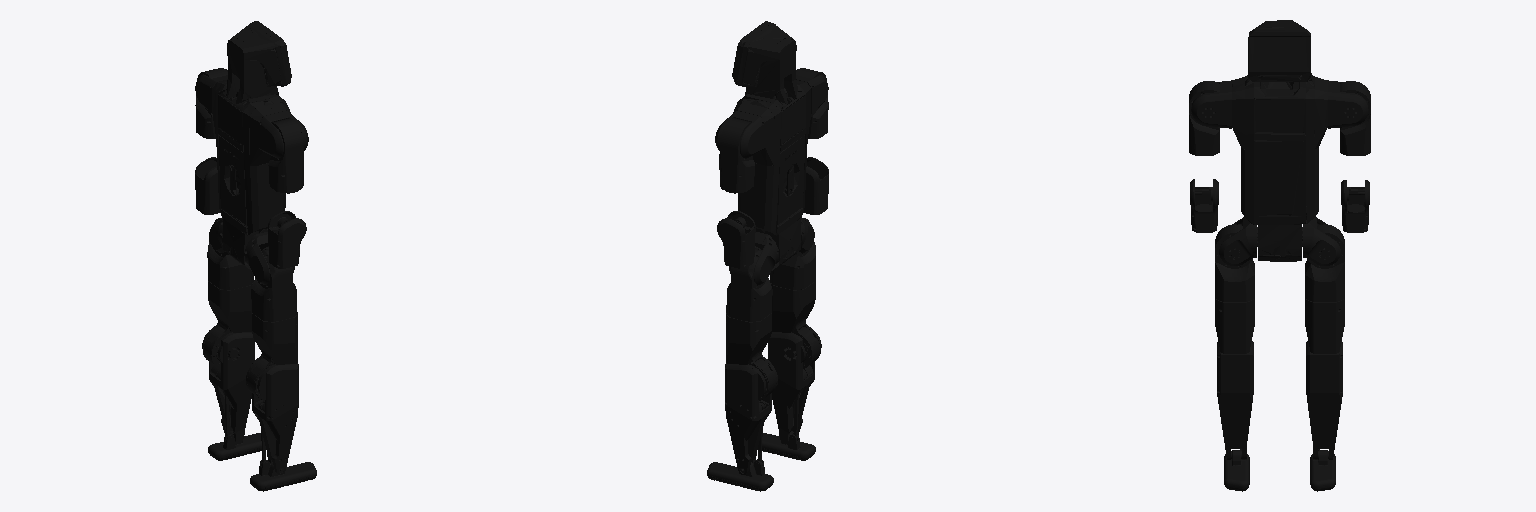
URDF robot description (assy_forurdf_kdheadless):
<?xml version="1.0" ?>
<robot name="assy_forurdf_kdheadless">
  <link name="base">
    <visual name="base_visual">
      <geometry name="base_geometry">
        <sphere radius="0.01"/>
      </geometry>
      <material name="base_material">
        <color rgba="1 0 0 1"/>
      </material>
      <origin xyz="0 0 0" rpy="0 0 1.5708"/>
    </visual>
    <inertial name="base_inertial">
      <mass value="0.001"/>
      <inertia ixx="0.000001" iyy="0.000001" izz="0.000001" ixy="0" ixz="0" iyz="0"/>
      <origin xyz="0 0 0" rpy="0 0 1.5708"/>
    </inertial>
  </link>
  <joint name="base_joint" type="fixed">
    <parent link="base"/>
    <child link="KD_B_102B_TORSO_BTM"/>
    <origin xyz="0 0 0" rpy="0 0 1.5708"/>
  </joint>
  <joint name="dof_left_hip_pitch_04" type="revolute">
    <origin xyz="0.056001 0.002025 -0.073841" rpy="-1.570796 0 1.570796"/>
    <parent link="KD_B_102B_TORSO_BTM"/>
    <child link="KD_D_102L_L_Hip_Yoke_Drive"/>
    <limit effort="120" velocity="17.488" lower="-1.047198" upper="2.216568"/>
    <axis xyz="0 0 1"/>
  </joint>
  <joint name="dof_right_shoulder_pitch_03" type="revolute">
    <origin xyz="-0.120999 0.002025 0.336659" rpy="0 -1.570796 0"/>
    <parent link="KD_B_102B_TORSO_BTM"/>
    <child link="KC_C_101R_ShldYokeDrive"/>
    <limit effort="60" velocity="18.849" lower="-3.490658" upper="1.047198"/>
    <axis xyz="0 0 -1"/>
  </joint>
  <joint name="dof_left_shoulder_pitch_03" type="revolute">
    <origin xyz="0.121001 0.002025 0.336659" rpy="0 1.570796 0"/>
    <parent link="KD_B_102B_TORSO_BTM"/>
    <child link="KD_C_101L_ShldYokeDrive"/>
    <limit effort="60" velocity="18.849" lower="-1.047198" upper="3.490658"/>
    <axis xyz="0 0 -1"/>
  </joint>
  <joint name="dof_left_hip_roll_03" type="revolute">
    <origin xyz="-0.028250 0.030000 -0.071000" rpy="3.141593 -1.570796 0"/>
    <parent link="KD_D_102L_L_Hip_Yoke_Drive"/>
    <child link="L_Hip_Roll_RS03"/>
    <limit effort="60" velocity="18.849" lower="-0.209440" upper="2.268928"/>
    <axis xyz="0 0 -1"/>
  </joint>
  <joint name="dof_right_hip_pitch_04" type="revolute">
    <origin xyz="-0.055999 0.002025 -0.073841" rpy="1.570796 0 1.570796"/>
    <parent link="KD_B_102B_TORSO_BTM"/>
    <child link="KD_D_102R"/>
    <limit effort="120" velocity="17.488" lower="-2.216568" upper="1.047198"/>
    <axis xyz="0 0 1"/>
  </joint>
  <joint name="dof_right_shoulder_roll_03" type="revolute">
    <origin xyz="0 -0.024250 0.080000" rpy="1.570796 1.570796 0"/>
    <parent link="KC_C_101R_ShldYokeDrive"/>
    <child link="RS03_3"/>
    <limit effort="60" velocity="18.849" lower="-1.658063" upper="0.436332"/>
    <axis xyz="0 0 1"/>
  </joint>
  <joint name="frame_imu_site" type="fixed">
    <origin xyz="0.003707 -0.010539 0.394701" rpy="0.011111 0 0"/>
    <parent link="KD_B_102B_TORSO_BTM"/>
    <child link="imu"/>
  </joint>
  <joint name="dof_left_shoulder_roll_03" type="revolute">
    <origin xyz="0 -0.024250 0.080000" rpy="1.570796 -1.570796 0"/>
    <parent link="KD_C_101L_ShldYokeDrive"/>
    <child link="RS03_4"/>
    <limit effort="60" velocity="18.849" lower="-0.436332" upper="1.658063"/>
    <axis xyz="0 0 1"/>
  </joint>
  <joint name="dof_right_hip_roll_03" type="revolute">
    <origin xyz="-0.028250 -0.030000 -0.071000" rpy="0 -1.570796 0"/>
    <parent link="KD_D_102R"/>
    <child link="L_Hip_Roll_RS03_2"/>
    <limit effort="60" velocity="18.849" lower="-2.268928" upper="0.209440"/>
    <axis xyz="0 0 1"/>
  </joint>
  <joint name="dof_left_hip_yaw_03" type="revolute">
    <origin xyz="0 -0.143000 0.025250" rpy="1.570796 0 -3.141593"/>
    <parent link="L_Hip_Roll_RS03"/>
    <child link="KD_D_301L_L_Femur_Lower_Drive"/>
    <limit effort="60" velocity="18.849" lower="-1.570796" upper="1.570796"/>
    <axis xyz="0 0 1"/>
  </joint>
  <joint name="dof_right_shoulder_yaw_02" type="revolute">
    <origin xyz="-0.013000 -0.142500 -0.031670" rpy="-1.570796 0 0"/>
    <parent link="RS03_3"/>
    <child link="KC_C_202R"/>
    <limit effort="17" velocity="37.699" lower="-1.671886" upper="1.671886"/>
    <axis xyz="0 0 1"/>
  </joint>
  <joint name="dof_left_shoulder_yaw_02" type="revolute">
    <origin xyz="0.013000 -0.142500 -0.030750" rpy="-1.570796 0 0"/>
    <parent link="RS03_4"/>
    <child link="KD_C_301L_LowerBicepDrive"/>
    <limit effort="17" velocity="37.699" lower="-1.671886" upper="1.671886"/>
    <axis xyz="0 0 1"/>
  </joint>
  <joint name="dof_right_hip_yaw_03" type="revolute">
    <origin xyz="0 -0.143000 -0.025250" rpy="-1.570796 0 0"/>
    <parent link="L_Hip_Roll_RS03_2"/>
    <child link="KD_D_301R"/>
    <limit effort="60" velocity="18.849" lower="-1.570796" upper="1.570796"/>
    <axis xyz="0 0 1"/>
  </joint>
  <joint name="dof_left_knee_04" type="revolute">
    <origin xyz="-0.021000 0.021000 -0.212000" rpy="1.570796 0 1.570796"/>
    <parent link="KD_D_301L_L_Femur_Lower_Drive"/>
    <child link="KD_D_401L_L_Shin_Drive"/>
    <limit effort="120" velocity="17.488" lower="0" upper="2.705260"/>
    <axis xyz="0 0 1"/>
  </joint>
  <joint name="dof_right_elbow_02" type="revolute">
    <origin xyz="0.019000 -0.010000 -0.137000" rpy="-1.570796 0 1.570796"/>
    <parent link="KC_C_202R"/>
    <child link="KC_C_401R_R_UpForearmDrive"/>
    <limit effort="17" velocity="37.699" lower="0" upper="2.478368"/>
    <axis xyz="0 0 1"/>
  </joint>
  <joint name="dof_left_elbow_02" type="revolute">
    <origin xyz="-0.019000 -0.010000 -0.137000" rpy="1.570796 0 1.570796"/>
    <parent link="KD_C_301L_LowerBicepDrive"/>
    <child link="KC_C_401L_Up_Forearm_Drive"/>
    <limit effort="17" velocity="37.699" lower="-2.478368" upper="0"/>
    <axis xyz="0 0 1"/>
  </joint>
  <joint name="dof_left_ankle_02" type="revolute">
    <origin xyz="-0.030000 -0.290000 0.000950" rpy="3.141593 0 0"/>
    <parent link="KD_D_401L_L_Shin_Drive"/>
    <child link="LFootBushing_GPF_1517_12"/>
    <limit effort="17" velocity="37.699" lower="-1.134464" upper="0.261799"/>
    <axis xyz="0 0 -1"/>
  </joint>
  <joint name="dof_right_knee_04" type="revolute">
    <origin xyz="0.021000 0.021000 -0.212000" rpy="1.570796 0 1.570796"/>
    <parent link="KD_D_301R"/>
    <child link="KD_D_401R"/>
    <limit effort="120" velocity="17.488" lower="-2.705260" upper="0"/>
    <axis xyz="0 0 -1"/>
  </joint>
  <joint name="dof_right_ankle_02" type="revolute">
    <origin xyz="-0.030000 -0.290000 -0.000950" rpy="0 0 0"/>
    <parent link="KD_D_401R"/>
    <child link="RFootBushing_GPF_1517_12"/>
    <limit effort="17" velocity="37.699" lower="-0.261799" upper="1.134464"/>
    <axis xyz="0 0 -1"/>
  </joint>
  <joint name="dof_right_wrist_00" type="revolute">
    <origin xyz="0.017350 0.103000 0.018000" rpy="-1.570796 1.570796 0"/>
    <parent link="KC_C_401R_R_UpForearmDrive"/>
    <child link="PRT0001"/>
    <limit effort="14" velocity="27.227" lower="-1.378810" upper="1.378810"/>
    <axis xyz="0 0 -1"/>
  </joint>
  <joint name="dof_left_wrist_00" type="revolute">
    <origin xyz="0.017350 -0.103000 0.018000" rpy="1.570796 -1.570796 0"/>
    <parent link="KC_C_401L_Up_Forearm_Drive"/>
    <child link="PRT0001_2"/>
    <limit effort="14" velocity="27.227" lower="-1.378810" upper="1.378810"/>
    <axis xyz="0 0 -1"/>
  </joint>
  <link name="KD_B_102B_TORSO_BTM">
    <visual name="KD_B_102B_TORSO_BTM_visual">
      <origin xyz="0 0 0" rpy="0 0 0"/>
      <geometry name="KD_B_102B_TORSO_BTM_geometry">
        <mesh filename="meshes/KD_B_102B_TORSO_BTM.stl"/>
      </geometry>
      <material name="KD_B_102B_TORSO_BTM_material">
        <color rgba="0.121569 0.121569 0.121569 1"/>
      </material>
    </visual>
    <inertial name="KD_B_102B_TORSO_BTM_inertial">
      <mass value="12.968840"/>
      <inertia ixx="0.542704" iyy="0.570591" izz="0.062989" ixy="-0.000003" ixz="0.000138" iyz="0.017774"/>
      <origin xyz="-0.000062 0.000320 0.159904" rpy="0 0 0"/>
    </inertial>
  </link>
  <link name="KD_D_102L_L_Hip_Yoke_Drive">
    <visual name="KD_D_102L_L_Hip_Yoke_Drive_visual">
      <origin xyz="0 0 0" rpy="0 0 0"/>
      <geometry name="KD_D_102L_L_Hip_Yoke_Drive_geometry">
        <mesh filename="meshes/KD_D_102L_L_Hip_Yoke_Drive.stl"/>
      </geometry>
      <material name="KD_D_102L_L_Hip_Yoke_Drive_material">
        <color rgba="0.121569 0.121569 0.121569 1"/>
      </material>
    </visual>
    <inertial name="KD_D_102L_L_Hip_Yoke_Drive_inertial">
      <mass value="0.550354"/>
      <inertia ixx="0.000930" iyy="0.001251" izz="0.001328" ixy="0.000057" ixz="-0.000041" iyz="0.000182"/>
      <origin xyz="-0.004258 0.005667 -0.040380" rpy="0 0 0"/>
    </inertial>
  </link>
  <link name="KC_C_101R_ShldYokeDrive">
    <visual name="KC_C_101R_ShldYokeDrive_visual">
      <origin xyz="0 0 0" rpy="0 0 0"/>
      <geometry name="KC_C_101R_ShldYokeDrive_geometry">
        <mesh filename="meshes/KC_C_101R_ShldYokeDrive.stl"/>
      </geometry>
      <material name="KC_C_101R_ShldYokeDrive_material">
        <color rgba="0.121569 0.121569 0.121569 1"/>
      </material>
    </visual>
    <inertial name="KC_C_101R_ShldYokeDrive_inertial">
      <mass value="0.569870"/>
      <inertia ixx="0.001409" iyy="0.001159" izz="0.001309" ixy="0" ixz="0.000001" iyz="0.000162"/>
      <origin xyz="0.003158 -0.007737 0.047375" rpy="0 0 0"/>
    </inertial>
  </link>
  <link name="KD_C_101L_ShldYokeDrive">
    <visual name="KD_C_101L_ShldYokeDrive_visual">
      <origin xyz="0 0 0" rpy="0 0 0"/>
      <geometry name="KD_C_101L_ShldYokeDrive_geometry">
        <mesh filename="meshes/KD_C_101L_ShldYokeDrive.stl"/>
      </geometry>
      <material name="KD_C_101L_ShldYokeDrive_material">
        <color rgba="0.121569 0.121569 0.121569 1"/>
      </material>
    </visual>
    <inertial name="KD_C_101L_ShldYokeDrive_inertial">
      <mass value="0.569863"/>
      <inertia ixx="0.001409" iyy="0.001159" izz="0.001309" ixy="0" ixz="-0.000001" iyz="0.000162"/>
      <origin xyz="-0.003158 -0.007737 0.047374" rpy="0 0 0"/>
    </inertial>
  </link>
  <link name="L_Hip_Roll_RS03">
    <visual name="L_Hip_Roll_RS03_visual">
      <origin xyz="0 0 0" rpy="0 0 0"/>
      <geometry name="L_Hip_Roll_RS03_geometry">
        <mesh filename="meshes/L_Hip_Roll_RS03.stl"/>
      </geometry>
      <material name="L_Hip_Roll_RS03_material">
        <color rgba="0.121569 0.121569 0.121569 1"/>
      </material>
    </visual>
    <inertial name="L_Hip_Roll_RS03_inertial">
      <mass value="2.396969"/>
      <inertia ixx="0.010350" iyy="0.003224" izz="0.010755" ixy="0.000002" ixz="0.000009" iyz="-0.000303"/>
      <origin xyz="-0.000136 -0.059376 0.026066" rpy="0 0 0"/>
    </inertial>
  </link>
  <link name="KD_D_102R">
    <visual name="KD_D_102R_visual">
      <origin xyz="0 0 0" rpy="0 0 0"/>
      <geometry name="KD_D_102R_geometry">
        <mesh filename="meshes/KD_D_102R.stl"/>
      </geometry>
      <material name="KD_D_102R_material">
        <color rgba="0.121569 0.121569 0.121569 1"/>
      </material>
    </visual>
    <inertial name="KD_D_102R_inertial">
      <mass value="0.550361"/>
      <inertia ixx="0.000930" iyy="0.001251" izz="0.001328" ixy="-0.000057" ixz="-0.000041" iyz="-0.000182"/>
      <origin xyz="-0.004258 -0.005667 -0.040379" rpy="0 0 0"/>
    </inertial>
  </link>
  <link name="RS03_3">
    <visual name="RS03_visual_3">
      <origin xyz="0 0 0" rpy="0 0 0"/>
      <geometry name="RS03_geometry_3">
        <mesh filename="meshes/RS03_3.stl"/>
      </geometry>
      <material name="RS03_material_3">
        <color rgba="0.121569 0.121569 0.121569 1"/>
      </material>
    </visual>
    <inertial name="RS03_inertial_3">
      <mass value="1.789232"/>
      <inertia ixx="0.007176" iyy="0.001972" izz="0.007602" ixy="-0.000597" ixz="-0.000001" iyz="-0.000081"/>
      <origin xyz="-0.004909 -0.041175 -0.029409" rpy="0 0 0"/>
    </inertial>
  </link>
  <link name="imu">
    <visual name="imu_visual">
      <origin xyz="0 0 0" rpy="0 0 0"/>
      <geometry name="imu_geometry">
        <mesh filename="meshes/imu.stl"/>
      </geometry>
      <material name="imu_material">
        <color rgba="0.121569 0.121569 0.121569 1"/>
      </material>
    </visual>
    <inertial name="imu_inertial">
      <mass value="0.005700"/>
      <inertia ixx="0.000001" iyy="0.000001" izz="0.000002" ixy="0" ixz="0" iyz="0"/>
      <origin xyz="-0.003012 -0.000068 0.002999" rpy="0 0 0"/>
    </inertial>
  </link>
  <link name="RS03_4">
    <visual name="RS03_visual_4">
      <origin xyz="0 0 0" rpy="0 0 0"/>
      <geometry name="RS03_geometry_4">
        <mesh filename="meshes/RS03_4.stl"/>
      </geometry>
      <material name="RS03_material_4">
        <color rgba="0.121569 0.121569 0.121569 1"/>
      </material>
    </visual>
    <inertial name="RS03_inertial_4">
      <mass value="1.789190"/>
      <inertia ixx="0.007175" iyy="0.001972" izz="0.007602" ixy="0.000599" ixz="0.000012" iyz="-0.000104"/>
      <origin xyz="0.004876 -0.041173 -0.029352" rpy="0 0 0"/>
    </inertial>
  </link>
  <link name="L_Hip_Roll_RS03_2">
    <visual name="L_Hip_Roll_RS03_visual_2">
      <origin xyz="0 0 0" rpy="0 0 0"/>
      <geometry name="L_Hip_Roll_RS03_geometry_2">
        <mesh filename="meshes/L_Hip_Roll_RS03_2.stl"/>
      </geometry>
      <material name="L_Hip_Roll_RS03_material_2">
        <color rgba="0.121569 0.121569 0.121569 1"/>
      </material>
    </visual>
    <inertial name="L_Hip_Roll_RS03_inertial_2">
      <mass value="2.396917"/>
      <inertia ixx="0.010350" iyy="0.003224" izz="0.010755" ixy="0.000002" ixz="-0.000009" iyz="0.000303"/>
      <origin xyz="-0.000137 -0.059376 -0.026067" rpy="0 0 0"/>
    </inertial>
  </link>
  <link name="KD_D_301L_L_Femur_Lower_Drive">
    <visual name="KD_D_301L_L_Femur_Lower_Drive_visual">
      <origin xyz="0 0 0" rpy="0 0 0"/>
      <geometry name="KD_D_301L_L_Femur_Lower_Drive_geometry">
        <mesh filename="meshes/KD_D_301L_L_Femur_Lower_Drive.stl"/>
      </geometry>
      <material name="KD_D_301L_L_Femur_Lower_Drive_material">
        <color rgba="0.121569 0.121569 0.121569 1"/>
      </material>
    </visual>
    <inertial name="KD_D_301L_L_Femur_Lower_Drive_inertial">
      <mass value="2.349254"/>
      <inertia ixx="0.015361" iyy="0.013924" izz="0.004011" ixy="-0.000189" ixz="0.001119" iyz="0.001496"/>
      <origin xyz="0.001576 0.013392 -0.172799" rpy="0 0 0"/>
    </inertial>
  </link>
  <link name="KC_C_202R">
    <visual name="KC_C_202R_visual">
      <origin xyz="0 0 0" rpy="0 0 0"/>
      <geometry name="KC_C_202R_geometry">
        <mesh filename="meshes/KC_C_202R.stl"/>
      </geometry>
      <material name="KC_C_202R_material">
        <color rgba="0.121569 0.121569 0.121569 1"/>
      </material>
    </visual>
    <inertial name="KC_C_202R_inertial">
      <mass value="0.753224"/>
      <inertia ixx="0.002457" iyy="0.002305" izz="0.000727" ixy="-0.000034" ixz="-0.000250" iyz="-0.000139"/>
      <origin xyz="0.003135 -0.003955 -0.099599" rpy="0 0 0"/>
    </inertial>
  </link>
  <link name="KD_C_301L_LowerBicepDrive">
    <visual name="KD_C_301L_LowerBicepDrive_visual">
      <origin xyz="0 0 0" rpy="0 0 0"/>
      <geometry name="KD_C_301L_LowerBicepDrive_geometry">
        <mesh filename="meshes/KD_C_301L_LowerBicepDrive.stl"/>
      </geometry>
      <material name="KD_C_301L_LowerBicepDrive_material">
        <color rgba="0.121569 0.121569 0.121569 1"/>
      </material>
    </visual>
    <inertial name="KD_C_301L_LowerBicepDrive_inertial">
      <mass value="0.866827"/>
      <inertia ixx="0.002953" iyy="0.002777" izz="0.000923" ixy="0.000016" ixz="0.000145" iyz="-0.000150"/>
      <origin xyz="0.000333 -0.002948 -0.095705" rpy="0 0 0"/>
    </inertial>
  </link>
  <link name="KD_D_301R">
    <visual name="KD_D_301R_visual">
      <origin xyz="0 0 0" rpy="0 0 0"/>
      <geometry name="KD_D_301R_geometry">
        <mesh filename="meshes/KD_D_301R.stl"/>
      </geometry>
      <material name="KD_D_301R_material">
        <color rgba="0.121569 0.121569 0.121569 1"/>
      </material>
    </visual>
    <inertial name="KD_D_301R_inertial">
      <mass value="2.349261"/>
      <inertia ixx="0.015362" iyy="0.013924" izz="0.004011" ixy="0.000189" ixz="-0.001119" iyz="0.001496"/>
      <origin xyz="-0.001577 0.013392 -0.172799" rpy="0 0 0"/>
    </inertial>
  </link>
  <link name="KD_D_401L_L_Shin_Drive">
    <visual name="KD_D_401L_L_Shin_Drive_visual">
      <origin xyz="0 0 0" rpy="0 0 0"/>
      <geometry name="KD_D_401L_L_Shin_Drive_geometry">
        <mesh filename="meshes/KD_D_401L_L_Shin_Drive.stl"/>
      </geometry>
      <material name="KD_D_401L_L_Shin_Drive_material">
        <color rgba="0.121569 0.121569 0.121569 1"/>
      </material>
    </visual>
    <inertial name="KD_D_401L_L_Shin_Drive_inertial">
      <mass value="1.684707"/>
      <inertia ixx="0.014785" iyy="0.002991" izz="0.014664" ixy="-0.000101" ixz="0.000022" iyz="0.000493"/>
      <origin xyz="-0.024116 -0.104308 0.018559" rpy="0 0 0"/>
    </inertial>
  </link>
  <link name="KC_C_401R_R_UpForearmDrive">
    <visual name="KC_C_401R_R_UpForearmDrive_visual">
      <origin xyz="0 0 0" rpy="0 0 0"/>
      <geometry name="KC_C_401R_R_UpForearmDrive_geometry">
        <mesh filename="meshes/KC_C_401R_R_UpForearmDrive.stl"/>
      </geometry>
      <material name="KC_C_401R_R_UpForearmDrive_material">
        <color rgba="0.121569 0.121569 0.121569 1"/>
      </material>
    </visual>
    <inertial name="KC_C_401R_R_UpForearmDrive_inertial">
      <mass value="0.641859"/>
      <inertia ixx="0.001302" iyy="0.000701" izz="0.001278" ixy="-0.000051" ixz="-0.000010" iyz="-0.000045"/>
      <origin xyz="0.015853 0.061198 0.015613" rpy="0 0 0"/>
    </inertial>
  </link>
  <link name="KC_C_401L_Up_Forearm_Drive">
    <visual name="KC_C_401L_Up_Forearm_Drive_visual">
      <origin xyz="0 0 0" rpy="0 0 0"/>
      <geometry name="KC_C_401L_Up_Forearm_Drive_geometry">
        <mesh filename="meshes/KC_C_401L_Up_Forearm_Drive.stl"/>
      </geometry>
      <material name="KC_C_401L_Up_Forearm_Drive_material">
        <color rgba="0.121569 0.121569 0.121569 1"/>
      </material>
    </visual>
    <inertial name="KC_C_401L_Up_Forearm_Drive_inertial">
      <mass value="0.641873"/>
      <inertia ixx="0.001303" iyy="0.000701" izz="0.001278" ixy="0.000051" ixz="-0.000010" iyz="0.000048"/>
      <origin xyz="0.015853 -0.061197 0.015921" rpy="0 0 0"/>
    </inertial>
  </link>
  <link name="LFootBushing_GPF_1517_12">
    <visual name="LFootBushing_GPF_1517_12_visual">
      <origin xyz="0 0 0" rpy="0 0 0"/>
      <geometry name="LFootBushing_GPF_1517_12_geometry">
        <mesh filename="meshes/LFootBushing_GPF_1517_12.stl"/>
      </geometry>
      <material name="LFootBushing_GPF_1517_12_material">
        <color rgba="0.121569 0.121569 0.121569 1"/>
      </material>
    </visual>
    <collision name="LFootBushing_GPF_1517_12.collision">
      <origin xyz="0 0 0" rpy="0 0 0"/>
      <geometry name="LFootBushing_GPF_1517_12_collision_geometry">
        <mesh filename="meshes/LFootBushing_GPF_1517_12.collision.stl"/>
      </geometry>
    </collision>
    <inertial name="LFootBushing_GPF_1517_12_inertial">
      <mass value="0.608966"/>
      <inertia ixx="0.000377" iyy="0.001940" izz="0.001893" ixy="0.000126" ixz="-0.000025" iyz="0.000027"/>
      <origin xyz="-0.016549 0.031142 -0.012943" rpy="0 0 0"/>
    </inertial>
  </link>
  <link name="KD_D_401R">
    <visual name="KD_D_401R_visual">
      <origin xyz="0 0 0" rpy="0 0 0"/>
      <geometry name="KD_D_401R_geometry">
        <mesh filename="meshes/KD_D_401R.stl"/>
      </geometry>
      <material name="KD_D_401R_material">
        <color rgba="0.121569 0.121569 0.121569 1"/>
      </material>
    </visual>
    <inertial name="KD_D_401R_inertial">
      <mass value="1.684717"/>
      <inertia ixx="0.014785" iyy="0.002991" izz="0.014664" ixy="-0.000101" ixz="-0.000022" iyz="-0.000494"/>
      <origin xyz="-0.024117 -0.104310 -0.018558" rpy="0 0 0"/>
    </inertial>
  </link>
  <link name="RFootBushing_GPF_1517_12">
    <visual name="RFootBushing_GPF_1517_12_visual">
      <origin xyz="0 0 0" rpy="0 0 0"/>
      <geometry name="RFootBushing_GPF_1517_12_geometry">
        <mesh filename="meshes/RFootBushing_GPF_1517_12.stl"/>
      </geometry>
      <material name="RFootBushing_GPF_1517_12_material">
        <color rgba="0.121569 0.121569 0.121569 1"/>
      </material>
    </visual>
    <collision name="RFootBushing_GPF_1517_12.collision">
      <origin xyz="0 0 0" rpy="0 0 0"/>
      <geometry name="RFootBushing_GPF_1517_12_collision_geometry">
        <mesh filename="meshes/RFootBushing_GPF_1517_12.collision.stl"/>
      </geometry>
    </collision>
    <inertial name="RFootBushing_GPF_1517_12_inertial">
      <mass value="0.608742"/>
      <inertia ixx="0.000377" iyy="0.001939" izz="0.001892" ixy="-0.000126" ixz="-0.000025" iyz="-0.000027"/>
      <origin xyz="-0.016546 -0.031136 -0.012942" rpy="0 0 0"/>
    </inertial>
  </link>
  <link name="PRT0001">
    <visual name="PRT0001_visual">
      <origin xyz="0 0 0" rpy="0 0 0"/>
      <geometry name="PRT0001_geometry">
        <mesh filename="meshes/PRT0001.stl"/>
      </geometry>
      <material name="PRT0001_material">
        <color rgba="0.121569 0.121569 0.121569 1"/>
      </material>
    </visual>
    <inertial name="PRT0001_inertial">
      <mass value="0.469028"/>
      <inertia ixx="0.000279" iyy="0.000270" izz="0.000412" ixy="0" ixz="0.000002" iyz="0"/>
      <origin xyz="0.000339 0.000063 0.027268" rpy="0 0 0"/>
    </inertial>
  </link>
  <link name="PRT0001_2">
    <visual name="PRT0001_visual_2">
      <origin xyz="0 0 0" rpy="0 0 0"/>
      <geometry name="PRT0001_geometry_2">
        <mesh filename="meshes/PRT0001_2.stl"/>
      </geometry>
      <material name="PRT0001_material_2">
        <color rgba="0.121569 0.121569 0.121569 1"/>
      </material>
    </visual>
    <inertial name="PRT0001_inertial_2">
      <mass value="0.469028"/>
      <inertia ixx="0.000279" iyy="0.000270" izz="0.000412" ixy="0" ixz="-0.000002" iyz="0"/>
      <origin xyz="-0.000339 -0.000063 0.027268" rpy="0 0 0"/>
    </inertial>
  </link>
</robot>

--- Facts derived from the render (not from the file) ---
Views: 3 orthographic renders of the robot side by side, from view 1: azimuth 30°, elevation 25°; view 2: azimuth 150°, elevation 25°; view 3: azimuth 270°, elevation 25°.
Robot: assy_forurdf_kdheadless — 23 links, 22 joints (20 revolute, 2 fixed); root link base; default pose: all joints at 0.
Visible links, largest first — view 1: KD_B_102B_TORSO_BTM, KD_D_401R, KD_D_401L_L_Shin_Drive, KD_D_301R, KD_D_301L_L_Femur_Lower_Drive, L_Hip_Roll_RS03_2, RS03_3, KC_C_401R_R_UpForearmDrive, L_Hip_Roll_RS03, RFootBushing_GPF_1517_12, KC_C_401L_Up_Forearm_Drive, KC_C_101R_ShldYokeDrive (+4 smaller); view 2: KD_B_102B_TORSO_BTM, KD_D_401L_L_Shin_Drive, KD_D_401R, KD_D_301L_L_Femur_Lower_Drive, KD_D_301R, L_Hip_Roll_RS03, RS03_4, KC_C_401L_Up_Forearm_Drive, L_Hip_Roll_RS03_2, LFootBushing_GPF_1517_12, KC_C_401R_R_UpForearmDrive, KD_C_101L_ShldYokeDrive (+4 smaller); view 3: KD_B_102B_TORSO_BTM, KD_D_401L_L_Shin_Drive, KD_D_401R, KD_D_301L_L_Femur_Lower_Drive, KD_D_301R, L_Hip_Roll_RS03_2, L_Hip_Roll_RS03, KC_C_101R_ShldYokeDrive, KD_C_101L_ShldYokeDrive, RS03_4, RS03_3, KC_C_401R_R_UpForearmDrive (+5 smaller).
Link boxes in pixels (<box>): KD_B_102B_TORSO_BTM: <box>212,21,291,270</box>; KD_D_401R: <box>252,357,298,474</box>; KD_D_401L_L_Shin_Drive: <box>202,326,254,443</box>; KD_D_301R: <box>246,313,297,400</box>; KD_D_301L_L_Femur_Lower_Drive: <box>202,281,252,368</box>; L_Hip_Roll_RS03_2: <box>251,249,297,321</box>; RS03_3: <box>268,118,303,193</box>; KC_C_401R_R_UpForearmDrive: <box>268,211,306,268</box>; L_Hip_Roll_RS03: <box>207,218,253,289</box>; RFootBushing_GPF_1517_12: <box>250,460,316,491</box>; KC_C_401L_Up_Forearm_Drive: <box>195,157,220,214</box>; KC_C_101R_ShldYokeDrive: <box>259,111,308,158</box>; KD_B_102B_TORSO_BTM: <box>732,21,810,271</box>; KD_D_401L_L_Shin_Drive: <box>725,357,771,474</box>; KD_D_401R: <box>768,327,821,443</box>; KD_D_301L_L_Femur_Lower_Drive: <box>726,313,777,400</box>; KD_D_301R: <box>770,281,820,368</box>; L_Hip_Roll_RS03: <box>726,249,772,321</box>; RS03_4: <box>719,118,754,193</box>; KC_C_401L_Up_Forearm_Drive: <box>717,211,755,268</box>; L_Hip_Roll_RS03_2: <box>770,217,815,289</box>; LFootBushing_GPF_1517_12: <box>707,459,773,491</box>; KC_C_401R_R_UpForearmDrive: <box>803,157,828,214</box>; KD_C_101L_ShldYokeDrive: <box>715,111,764,158</box>; KD_B_102B_TORSO_BTM: <box>1232,20,1327,261</box>; KD_D_401L_L_Shin_Drive: <box>1306,341,1342,459</box>; KD_D_401R: <box>1217,341,1253,459</box>; KD_D_301L_L_Femur_Lower_Drive: <box>1305,299,1344,353</box>; KD_D_301R: <box>1215,299,1254,353</box>; L_Hip_Roll_RS03_2: <box>1215,224,1254,301</box>; L_Hip_Roll_RS03: <box>1305,224,1344,301</box>; KC_C_101R_ShldYokeDrive: <box>1191,80,1231,128</box>; KD_C_101L_ShldYokeDrive: <box>1328,80,1368,128</box>; RS03_4: <box>1340,81,1370,155</box>; RS03_3: <box>1189,81,1219,155</box>; KC_C_401R_R_UpForearmDrive: <box>1190,179,1218,232</box>.
Bounding box of the posed robot: 0.2254 × 0.516 × 1.4 m (x, y, z).
Meshes: 22 distinct files referenced, 17 mesh visuals loaded (17 binary STL); not drawn: 5 (reference not matched to a file when rendering).